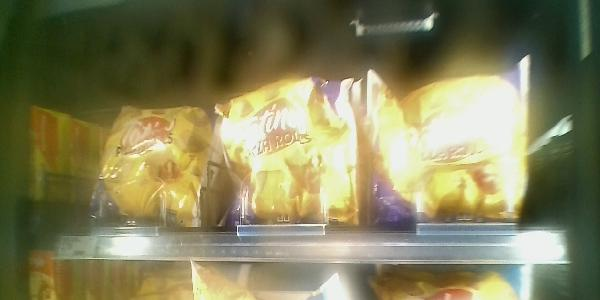icecream: (371, 69, 547, 230), (215, 79, 368, 233), (84, 82, 207, 233)
